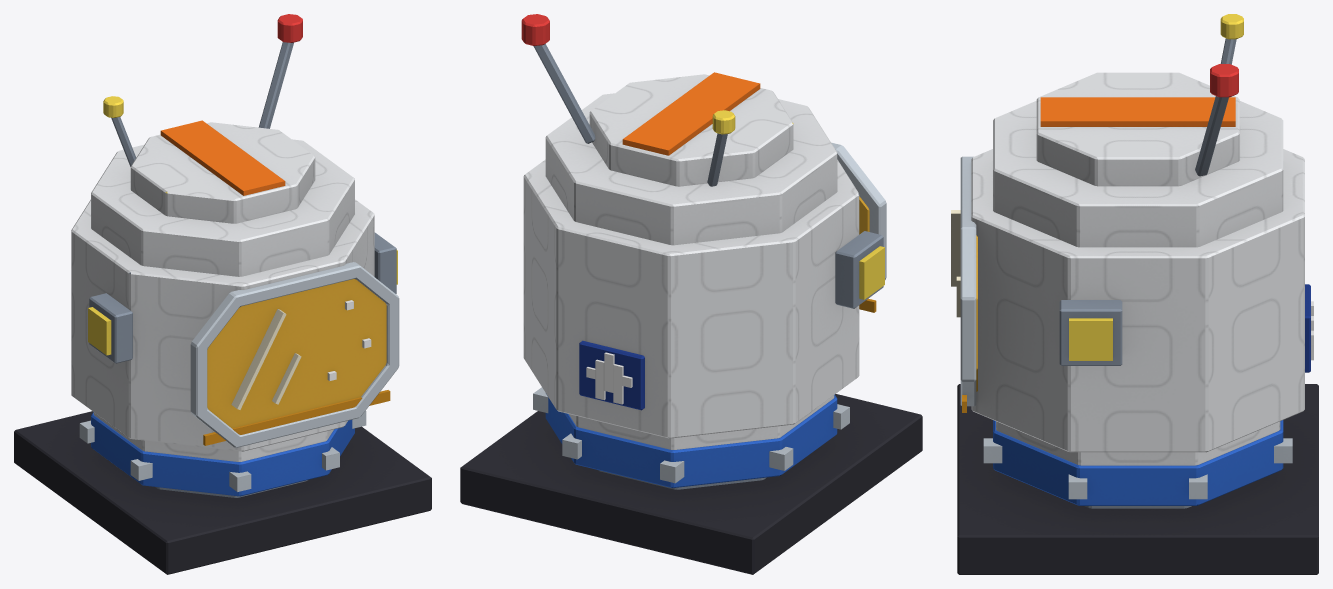
The model's file is SpaceHelmet.fbx.
3 views of the same model, side by side, from view 1: azimuth 30°, elevation 25°; view 2: azimuth 150°, elevation 25°; view 3: azimuth 270°, elevation 25° (orthographic). The views are drawn at different scales.
Parts seen in each view (by area): view 1: Art_SpaceHelmet; view 2: Art_SpaceHelmet; view 3: Art_SpaceHelmet.
Part boxes in pixels (x1,y1,x2,y2): Art_SpaceHelmet: (14, 14, 431, 574); Art_SpaceHelmet: (460, 14, 922, 574); Art_SpaceHelmet: (951, 14, 1318, 574).
Size of the model in its own units: 2.52 by 3.44 by 2.34.
